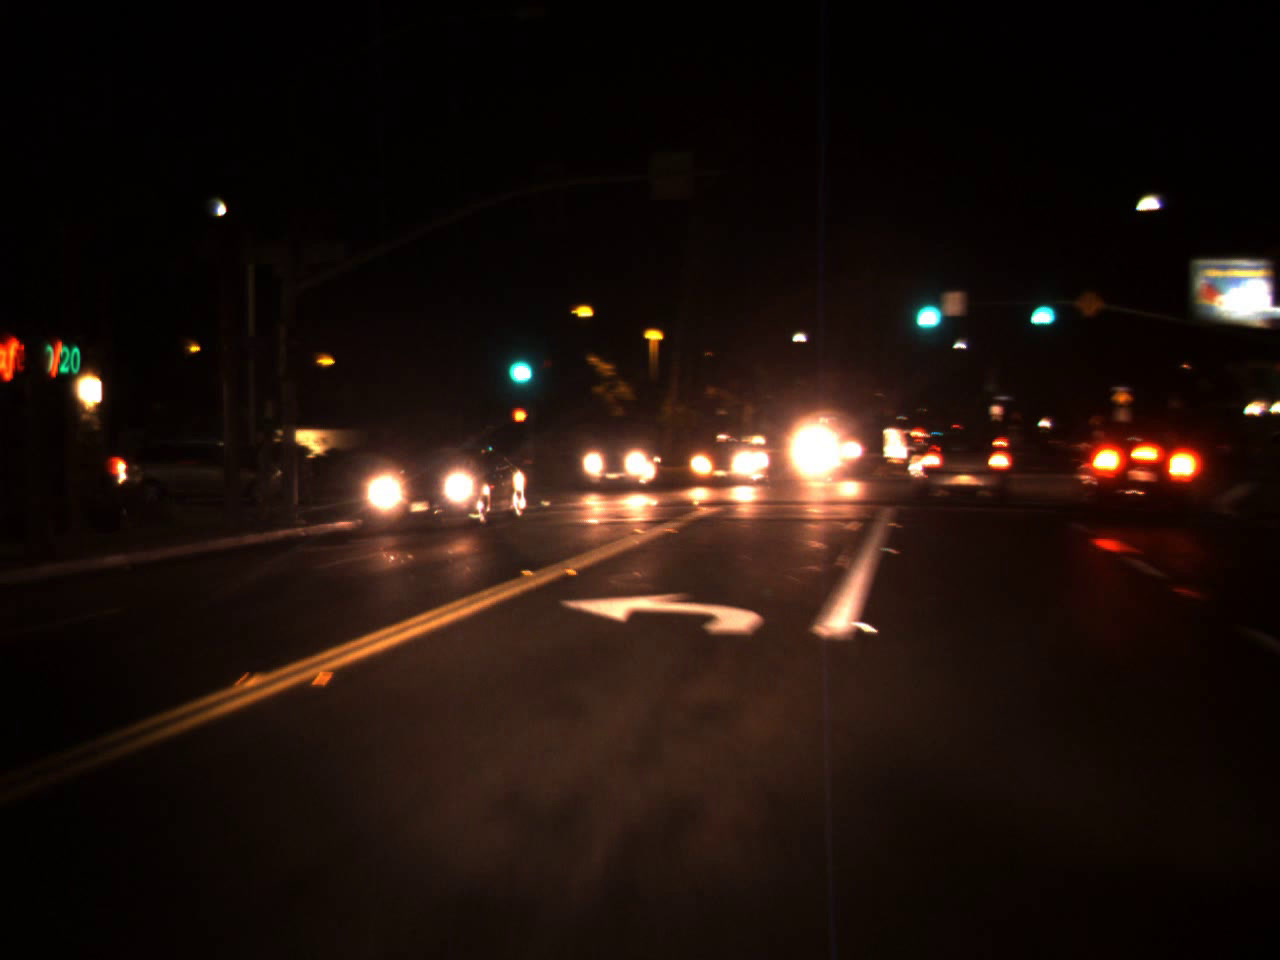go: (499, 332, 538, 392), (907, 277, 946, 337), (1021, 283, 1060, 331)
